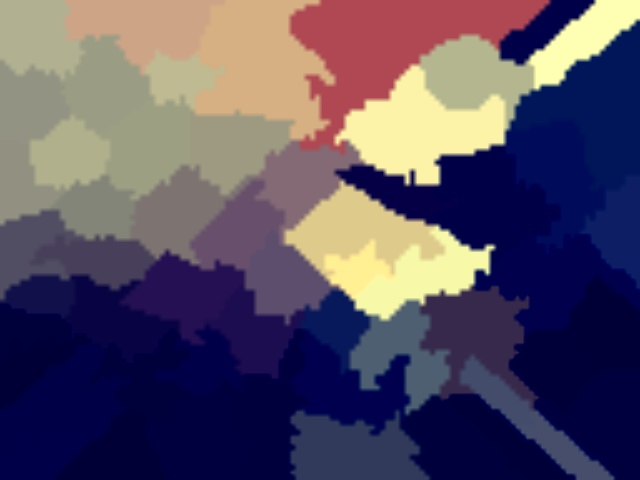one: (427, 57, 500, 118)
